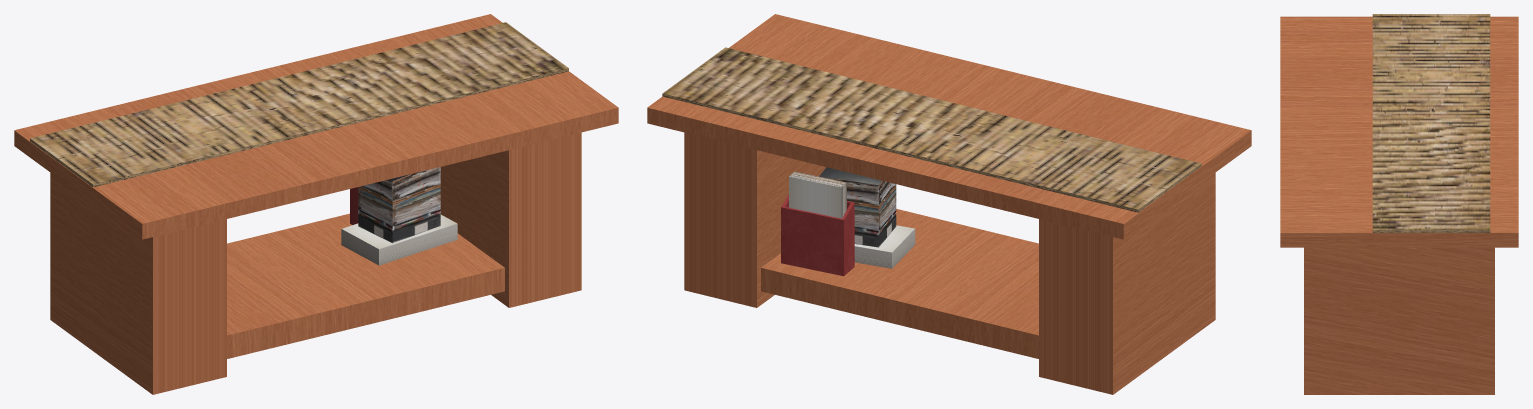
The model's file is coffeeTable.FBX.
3 views of the same model, side by side, from view 1: azimuth 30°, elevation 25°; view 2: azimuth 150°, elevation 25°; view 3: azimuth 270°, elevation 25° (orthographic). The views are drawn at different scales.
Parts seen in each view (by area): view 1: Box001, Box002, Box005, Object004, Box004; view 2: Box001, Box002, Box003, Box005, Object001, Object004, Box004, Object003; view 3: Box001, Box002.
Boxes of the visible parts, box(x1,y1,x2,y2) form: Box001: box(14, 14, 618, 394); Box002: box(30, 22, 568, 187); Box005: box(358, 167, 440, 243); Object004: box(341, 223, 457, 265); Box004: box(342, 214, 456, 249); Box001: box(647, 14, 1251, 394); Box002: box(662, 47, 1201, 212); Box003: box(781, 194, 854, 276); Box005: box(819, 176, 896, 247); Object001: box(789, 176, 840, 218); Object004: box(854, 229, 915, 268); Box004: box(854, 225, 914, 252); Object003: box(789, 171, 846, 218); Box001: box(1280, 16, 1518, 394); Box002: box(1372, 14, 1490, 232).
Bounding box in the file's own units: 1867 × 707 × 869.
Materials: 9 (8 with a texture image).
